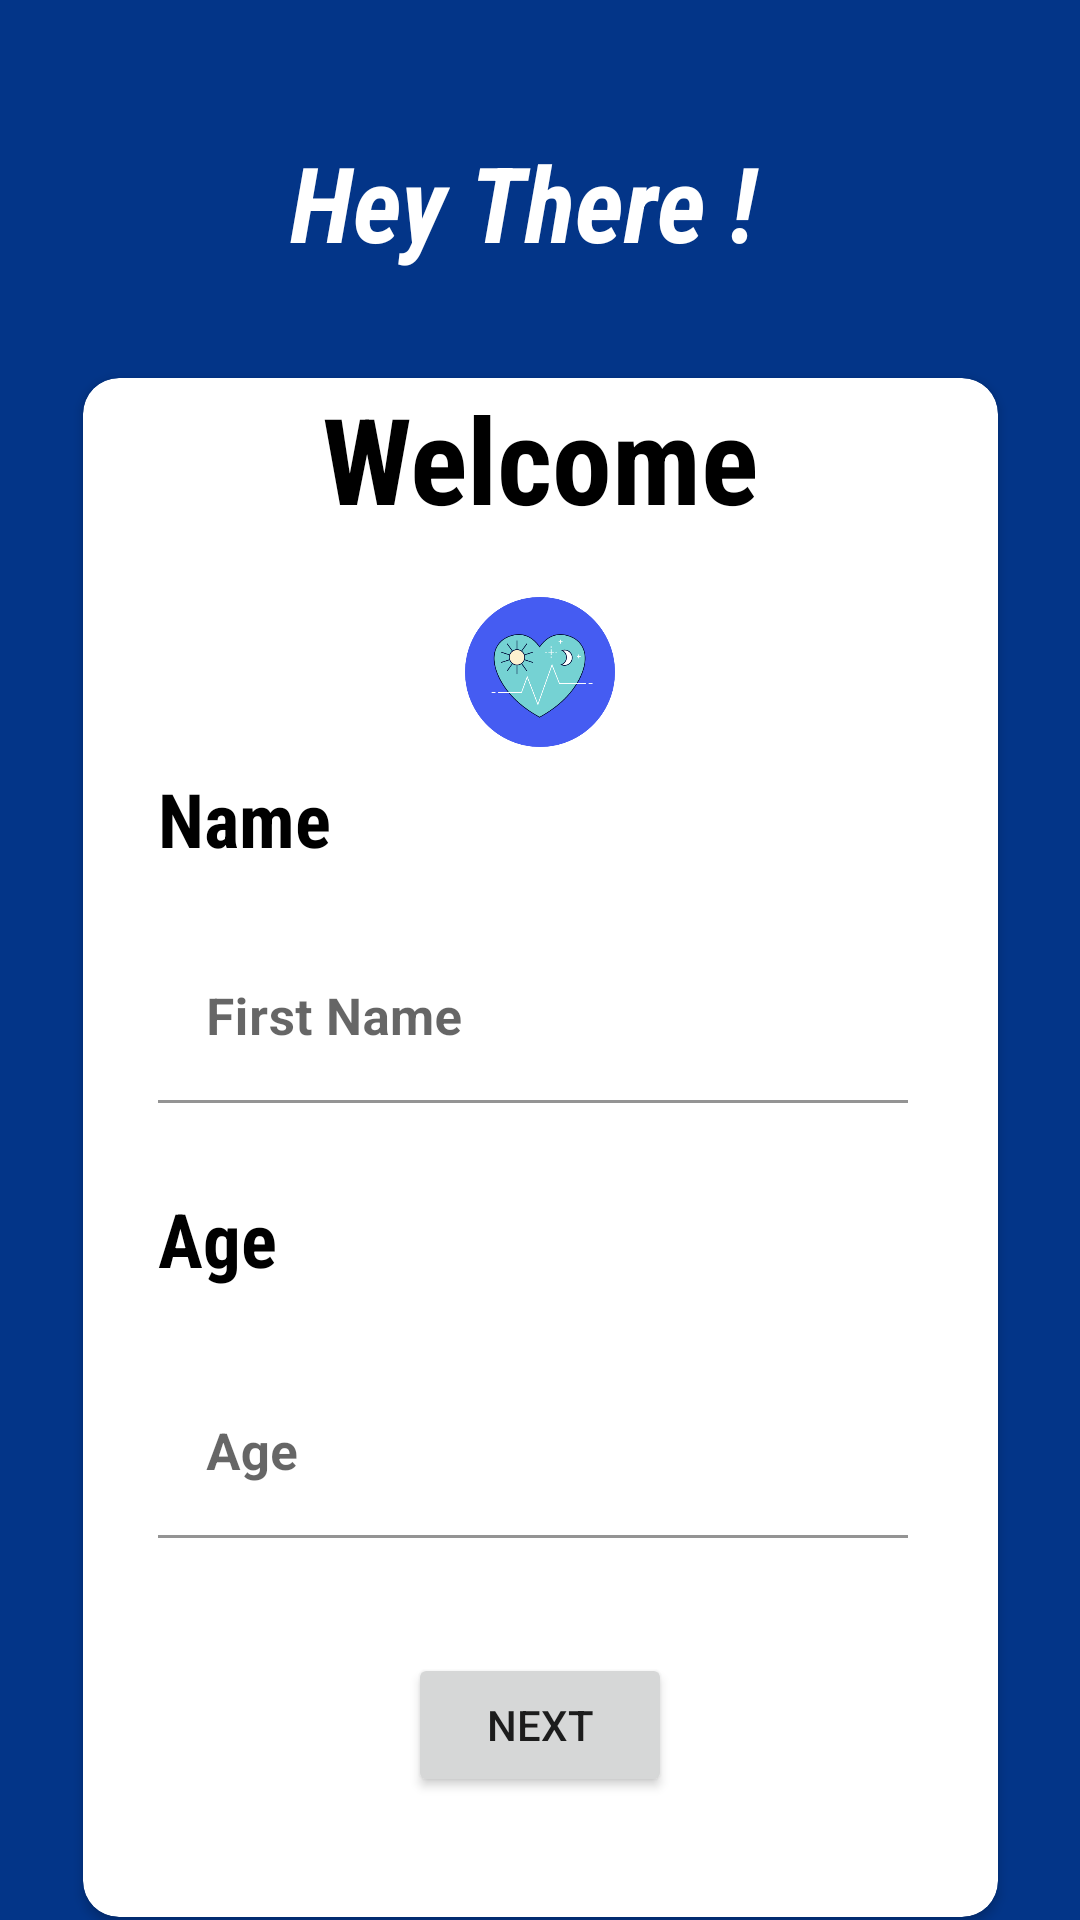

Screen size 1080x1920. Icon name, then its box in pixels as (x1, y1, x2, y2):
heart: (465, 597, 615, 747)
